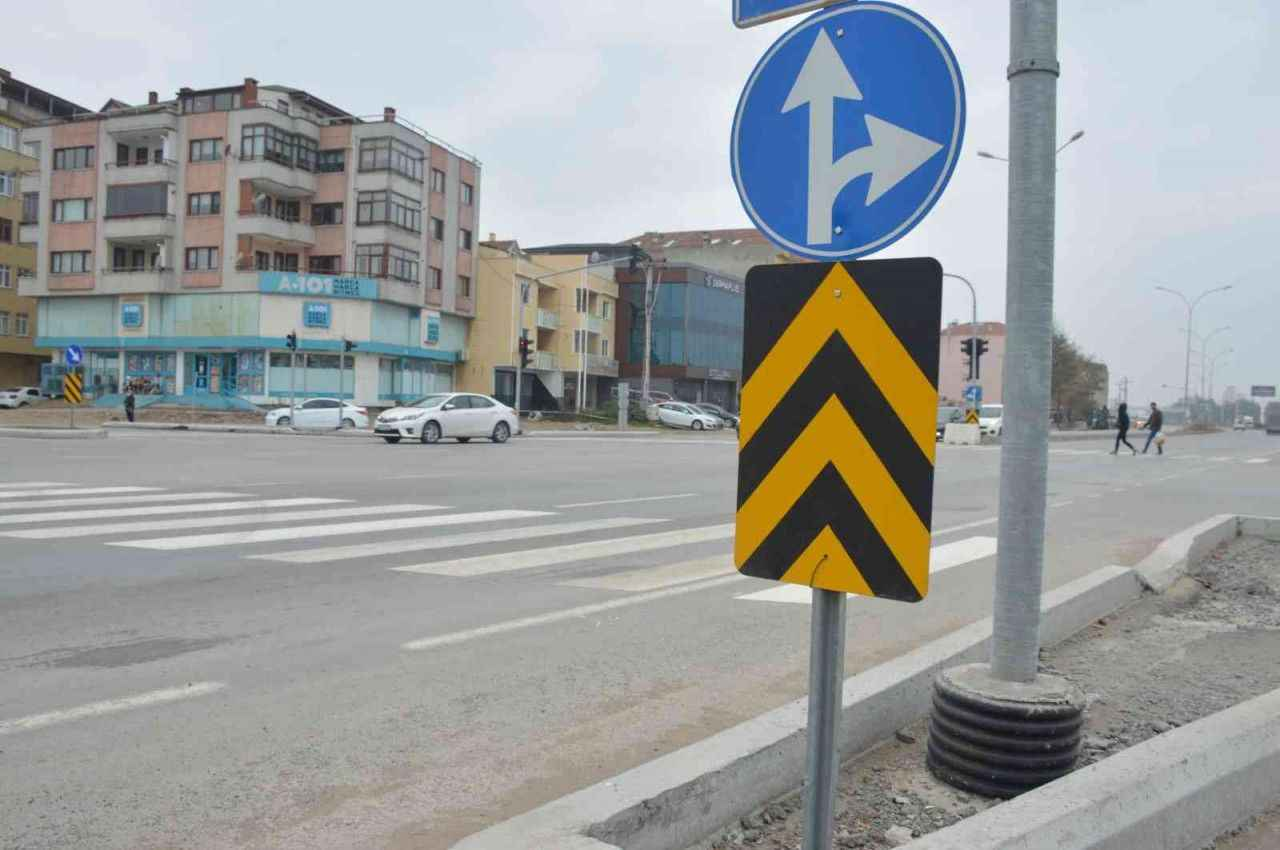ileri_veya_saga: (734, 6, 968, 254)
otomobil: (368, 382, 523, 454), (260, 392, 368, 433)
yaya: (936, 0, 1101, 796), (1105, 388, 1140, 450), (1135, 400, 1168, 452)
